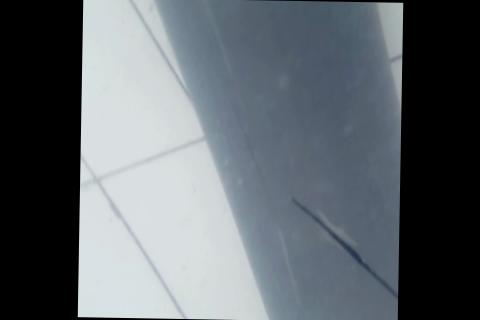keretakan: (285, 194, 399, 316)
